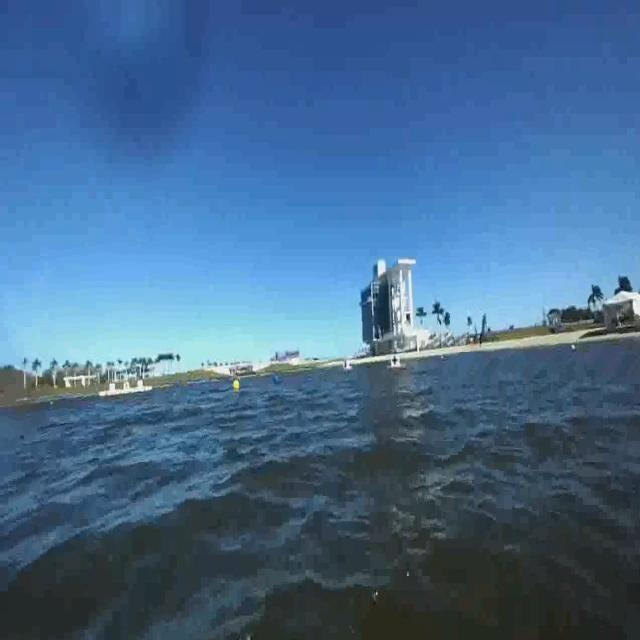blue-buoy: (274, 375, 282, 386)
yellow-buoy: (234, 379, 242, 393)
